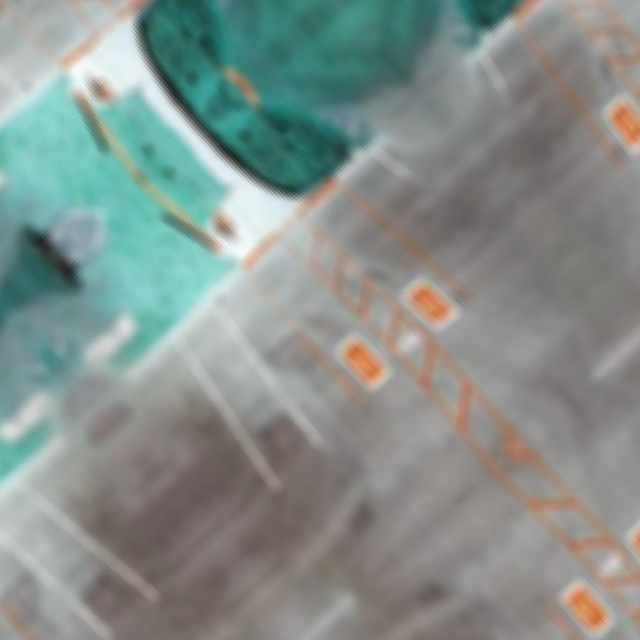ISA: (571, 593, 604, 628), (345, 344, 378, 378), (410, 285, 443, 319), (611, 103, 640, 137), (636, 535, 640, 569)
